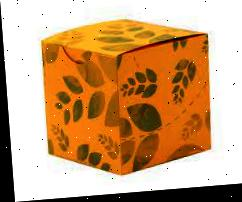cube: (36, 15, 215, 183)
